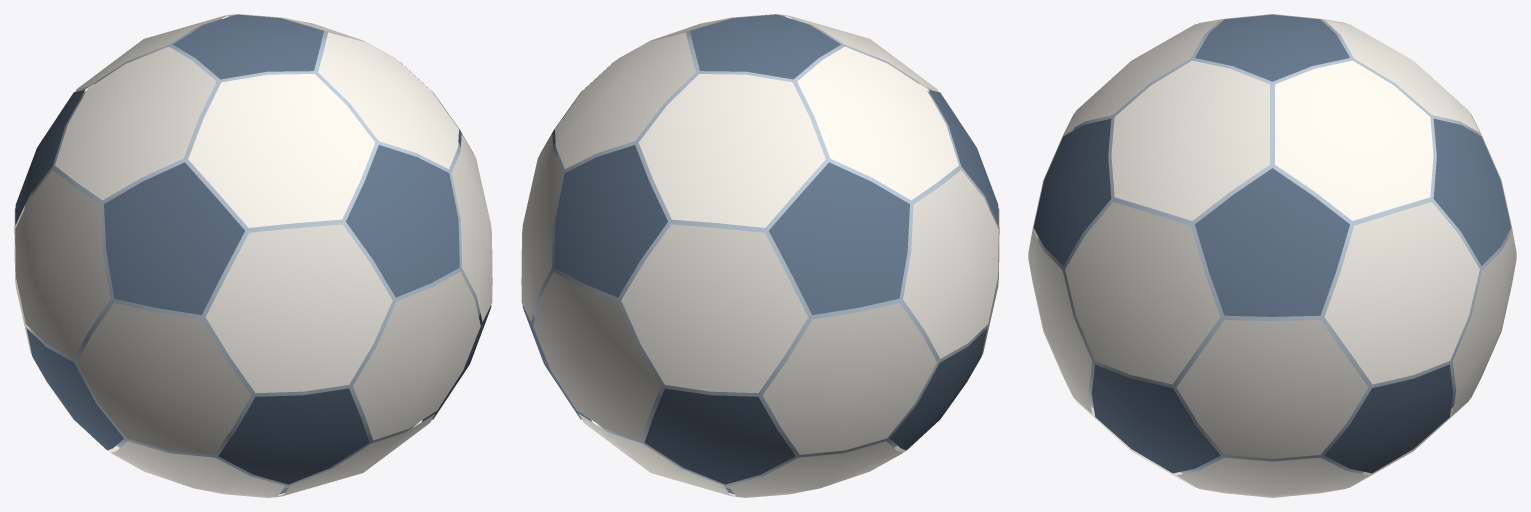
Rendered from ball.fbx.
The picture shows the model from 3 angles, left to right: view 1: azimuth 30°, elevation 25°; view 2: azimuth 150°, elevation 25°; view 3: azimuth 270°, elevation 25°; orthographic projection.
Parts seen in each view (by area): view 1: ball; view 2: ball; view 3: ball.
Boxes of the visible parts, left/top/right/bottom form: ball: left=14, top=14, right=492, bottom=497; ball: left=521, top=14, right=999, bottom=497; ball: left=1028, top=14, right=1516, bottom=497.
Bounding box in the file's own units: 0.9882 × 1 × 1.
